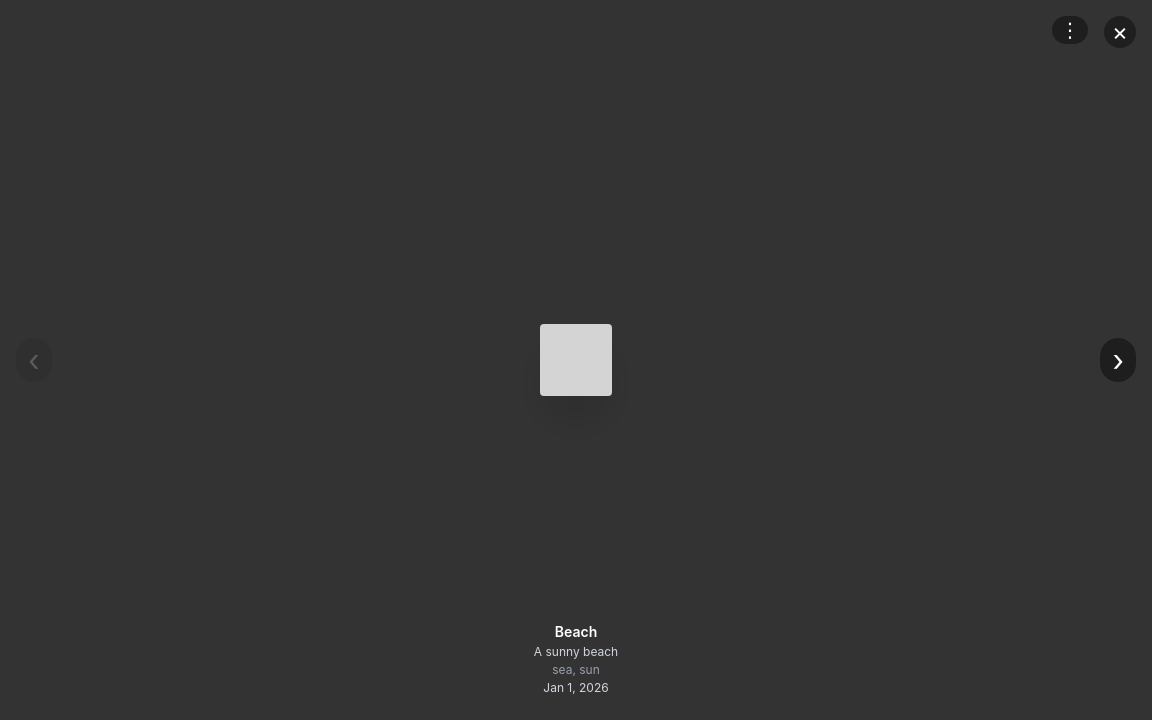
Scenario: Lightbox.Menu › opens the dropdown when the menu button is clicked
The image size is (1152, 720).
Click the button with test id "lightbox-menu-button" at (1070, 30), box [1052,16,1088,44]
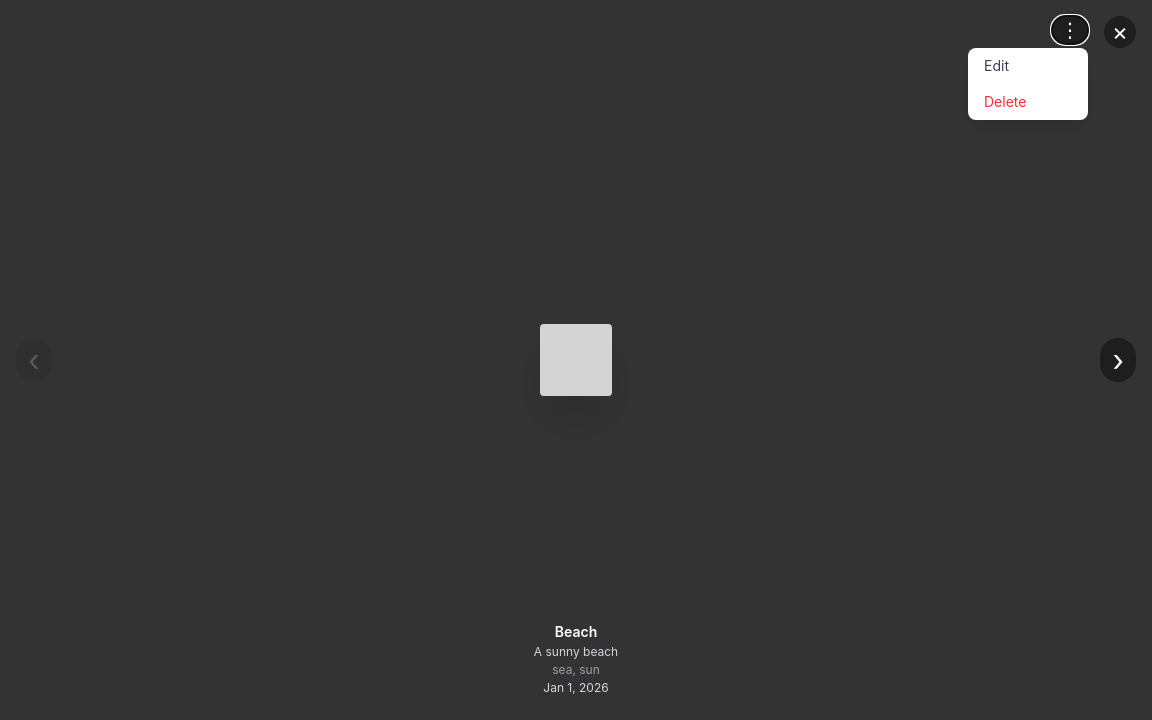
Expected: the element with test id "lightbox-menu-dropdown" is shown, [968,48,1088,120]
